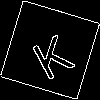K: (25, 25, 77, 82)
